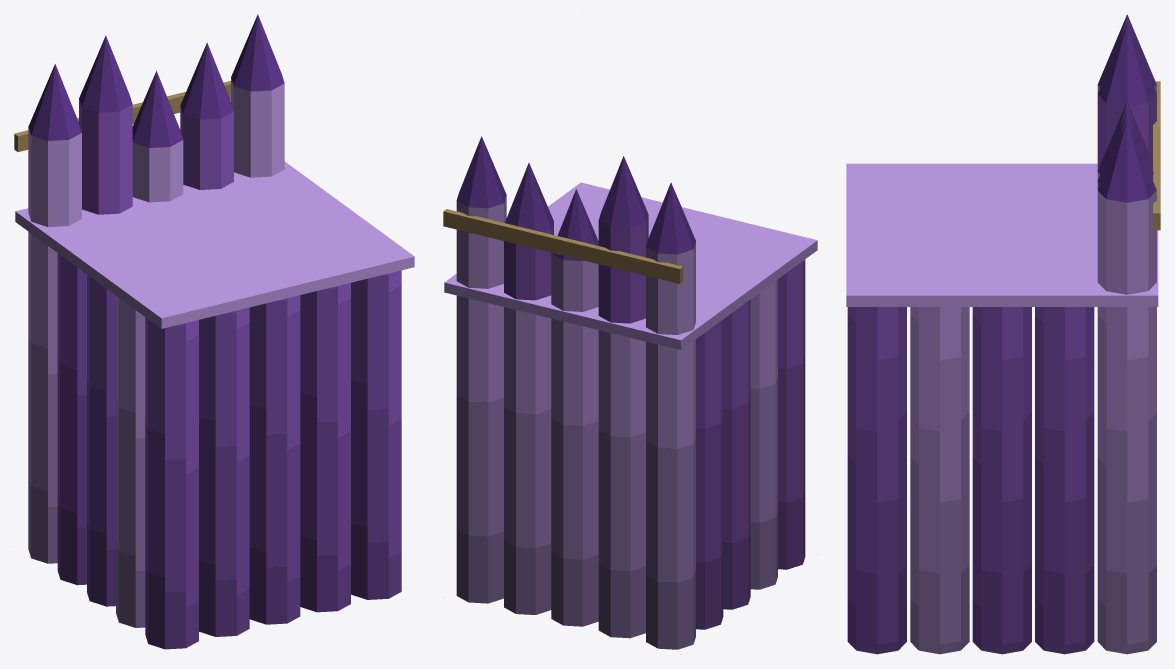
File: perimeter_wall_crystal_f14.glb
3 renders of one model, left to right at view 1: azimuth 30°, elevation 25°; view 2: azimuth 150°, elevation 25°; view 3: azimuth 270°, elevation 25°, orthographic. The views are drawn at different scales.
Size of the model in its own units: 2 by 3.9 by 2.01.
Materials: 1 (1 with a texture image).
